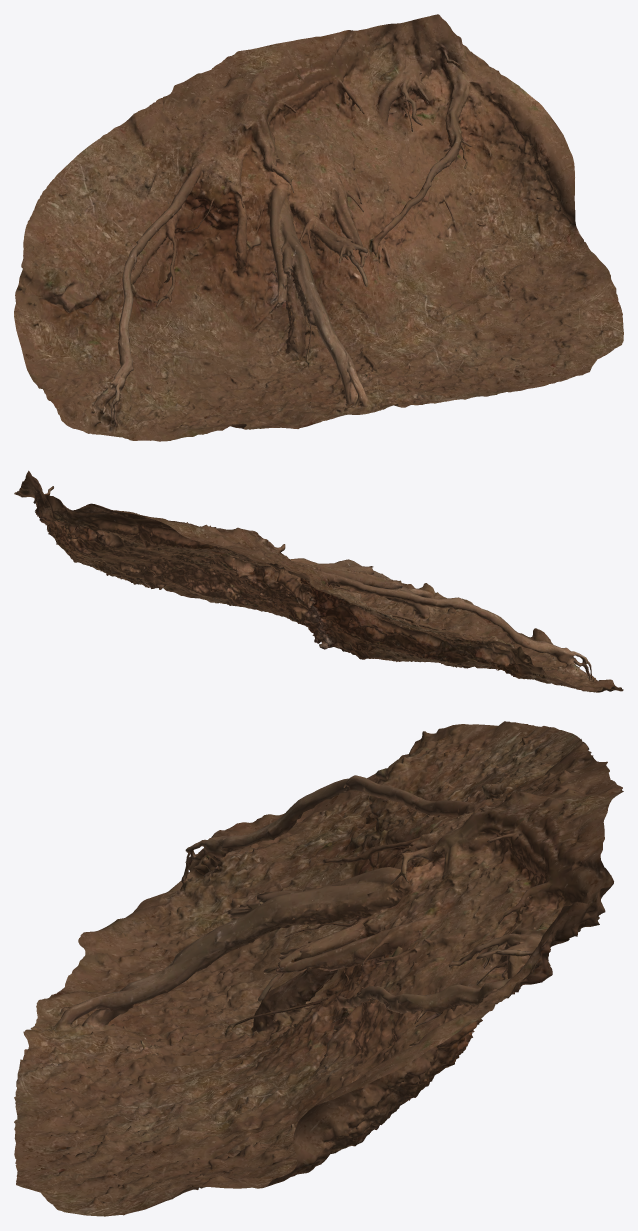
Rendered from root_cluster_01.glb.
The picture shows the model from 3 angles, top to bottom: view 1: azimuth 30°, elevation 25°; view 2: azimuth 150°, elevation 25°; view 3: azimuth 270°, elevation 25°; orthographic projection. The views are drawn at different scales.
Parts seen in each view (by area): view 1: root_cluster_01; view 2: root_cluster_01; view 3: root_cluster_01.
Part boxes in pixels (bbox=[...]): root_cluster_01: bbox=[14, 14, 623, 441]; root_cluster_01: bbox=[14, 470, 623, 692]; root_cluster_01: bbox=[14, 721, 623, 1216].
Bounding box in the file's own units: 4.12 × 1.51 × 2.68.
1 material, 1 textured.
